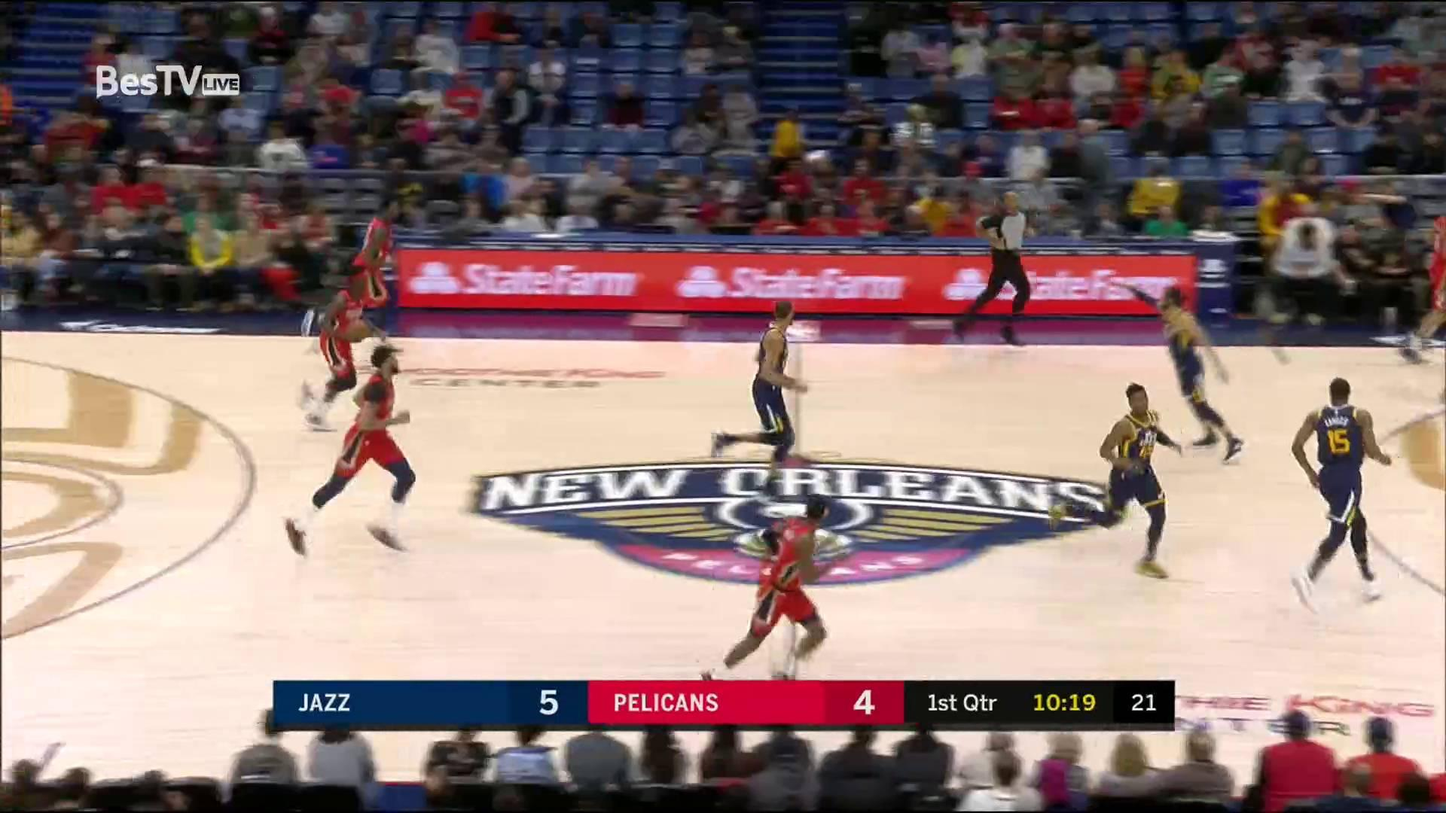basketball: (346, 316, 371, 340)
